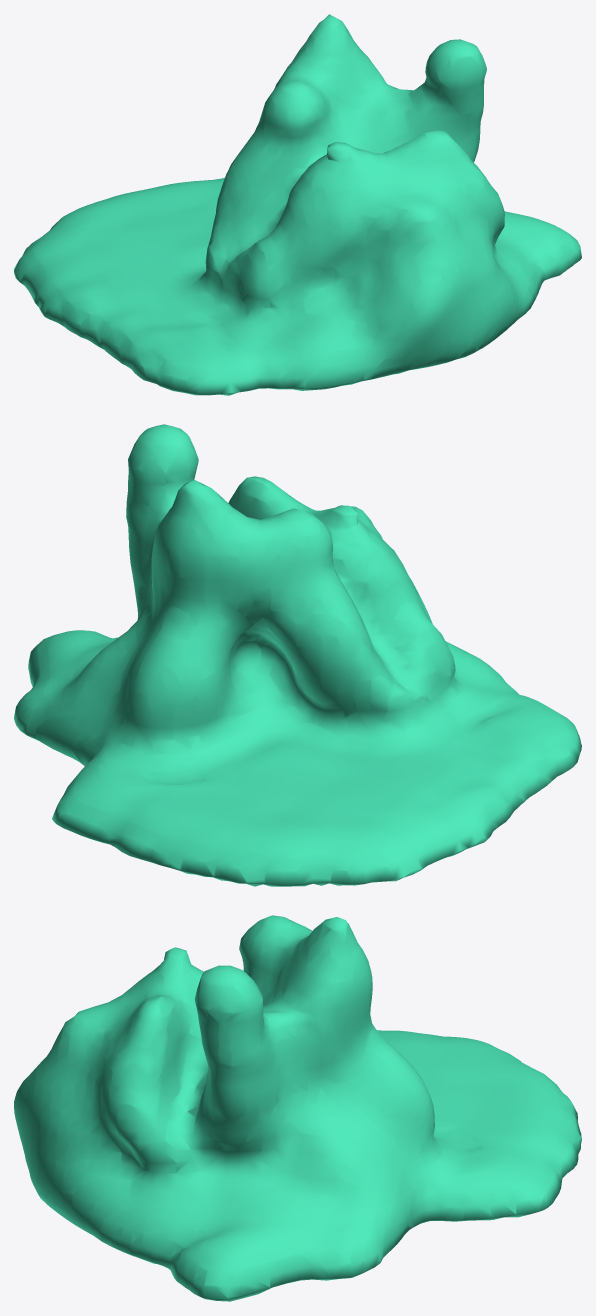
3 views of the same model, one above another, from view 1: azimuth 30°, elevation 25°; view 2: azimuth 150°, elevation 25°; view 3: azimuth 270°, elevation 25° (orthographic). The views are drawn at different scales.
Visible parts, largest first — view 1: Liquid_Domain; view 2: Liquid_Domain; view 3: Liquid_Domain.
Part boxes in pixels (x1=…): Liquid_Domain: x1=14, y1=14, x2=581, y2=395; Liquid_Domain: x1=14, y1=424, x2=581, y2=886; Liquid_Domain: x1=14, y1=915, x2=581, y2=1301.
Size of the model in its own units: 7.16 by 3.68 by 6.66.
